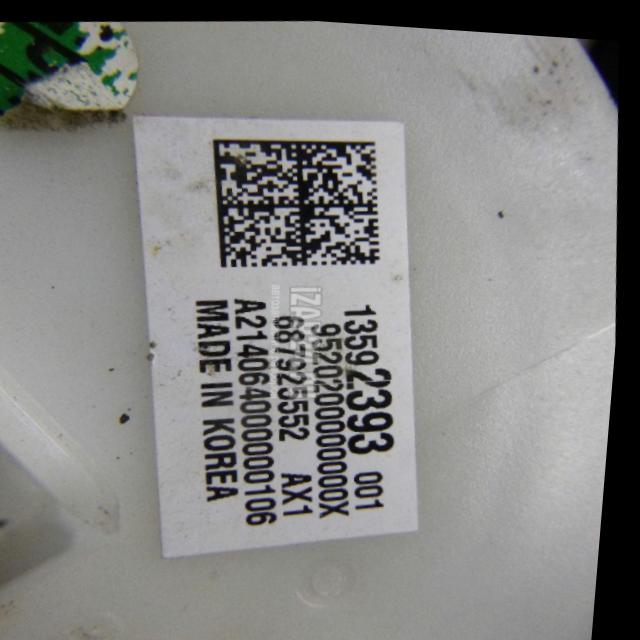datamatrix: (207, 125, 392, 273)
